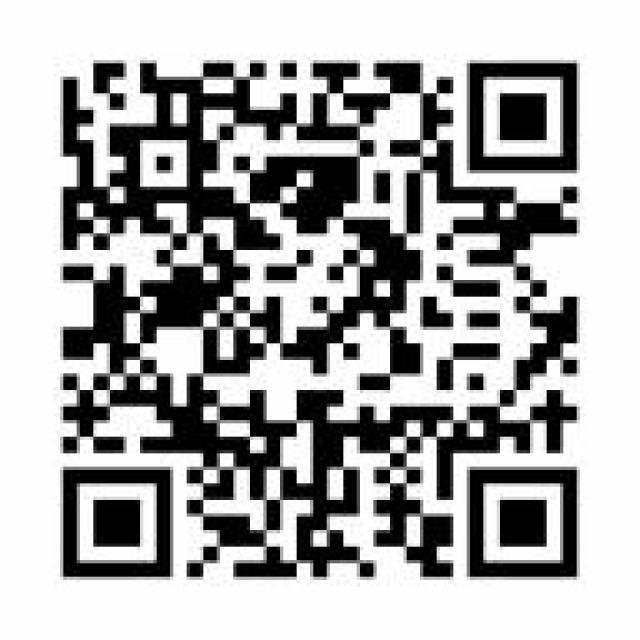qr_code: (60, 60, 579, 579)
